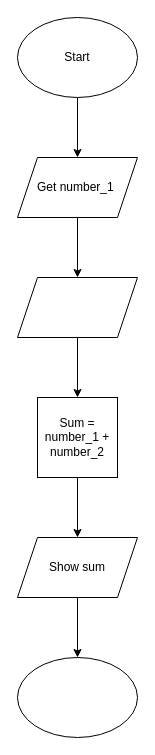
Some shapes in this 155 by 755 pixel diagram are drawn without their labels. Here are the shapes that lost their labels. From the top down, the centre of each, then its label:
point 77,307: Get number_2
point 77,697: Stop
